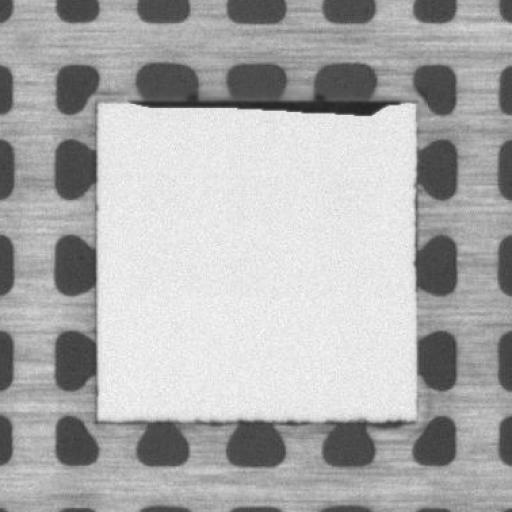DIE_BROKEN: (134, 90, 402, 119)
